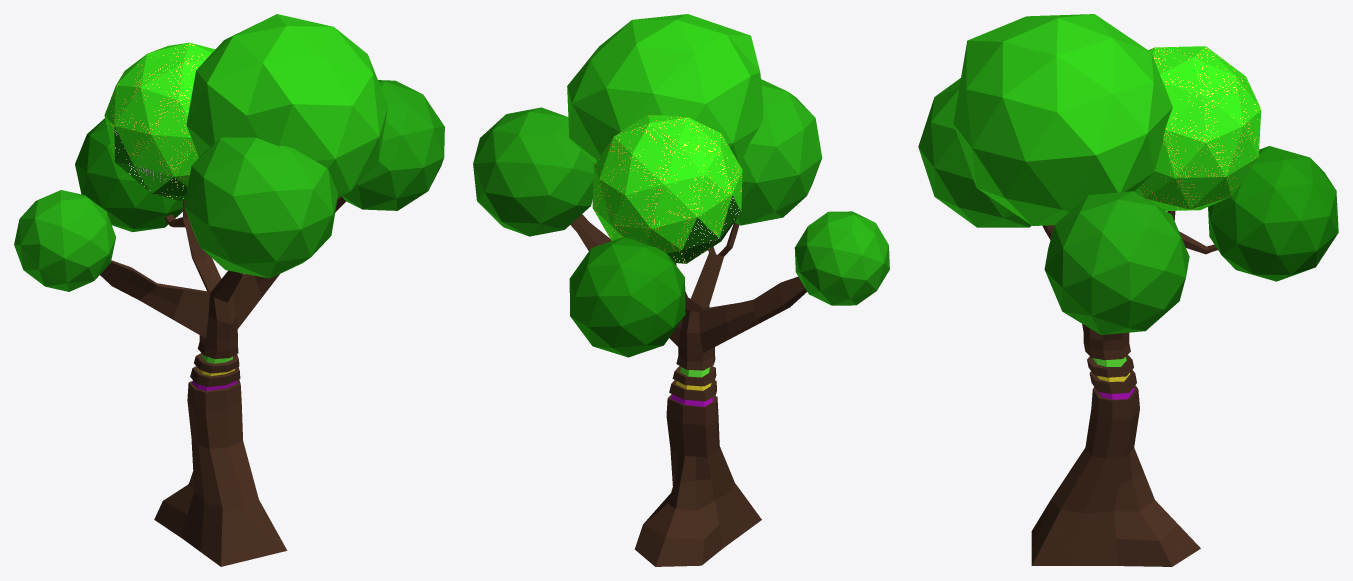
File: katree.glb
The picture shows the model from 3 angles, left to right: view 1: azimuth 30°, elevation 25°; view 2: azimuth 150°, elevation 25°; view 3: azimuth 270°, elevation 25°; orthographic projection. The views are drawn at different scales.
Parts seen in each view (by area): view 1: Icosphere.003, Cube, Icosphere, Icosphere.002, Icosphere.005, Icosphere.004, Icosphere.001; view 2: Cube, Icosphere.003, Icosphere.002, Icosphere.004, Icosphere.001, Icosphere, Icosphere.005; view 3: Icosphere.003, Cube, Icosphere.004, Icosphere.002, Icosphere.001, Icosphere.
Part boxes in pixels (box(x1,y1,x2,y2)): Icosphere.003: box(186, 14, 388, 197); Cube: box(100, 196, 345, 566); Icosphere: box(184, 137, 338, 278); Icosphere.002: box(104, 42, 214, 200); Icosphere.005: box(14, 190, 115, 291); Icosphere.004: box(341, 80, 444, 210); Icosphere.001: box(75, 118, 182, 232); Cube: box(570, 214, 807, 566); Icosphere.003: box(567, 14, 763, 166); Icosphere.002: box(592, 115, 742, 263); Icosphere.004: box(473, 107, 594, 236); Icosphere.001: box(569, 237, 685, 357); Icosphere: box(734, 79, 822, 225); Icosphere.005: box(794, 211, 889, 305); Icosphere.003: box(953, 14, 1172, 225); Cube: box(1031, 210, 1217, 566); Icosphere.004: box(1044, 191, 1189, 334); Icosphere.002: box(1134, 46, 1261, 210); Icosphere.001: box(1208, 146, 1338, 281); Icosphere: box(918, 78, 1031, 227).
Size of what is drawn, in the model's own units: 12.07 by 14.11 by 9.71.
1 material, 1 textured.
